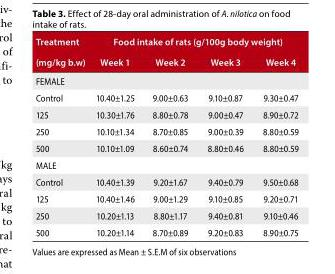table: (34, 35, 297, 237)
table column: (34, 35, 89, 237), (142, 35, 197, 237), (197, 35, 252, 237), (89, 35, 142, 237), (252, 35, 297, 237)
table column header: (34, 35, 297, 70)
table projected row header: (34, 70, 297, 88), (34, 156, 297, 172)
table row: (34, 51, 297, 70), (34, 70, 297, 88), (34, 88, 297, 105), (34, 105, 297, 122), (34, 122, 297, 139), (34, 139, 297, 156), (34, 172, 297, 189), (34, 189, 297, 206), (34, 206, 297, 223), (34, 35, 297, 51), (34, 156, 297, 172), (34, 223, 297, 237)
table spanning cell: (89, 35, 297, 51), (34, 35, 89, 70)
